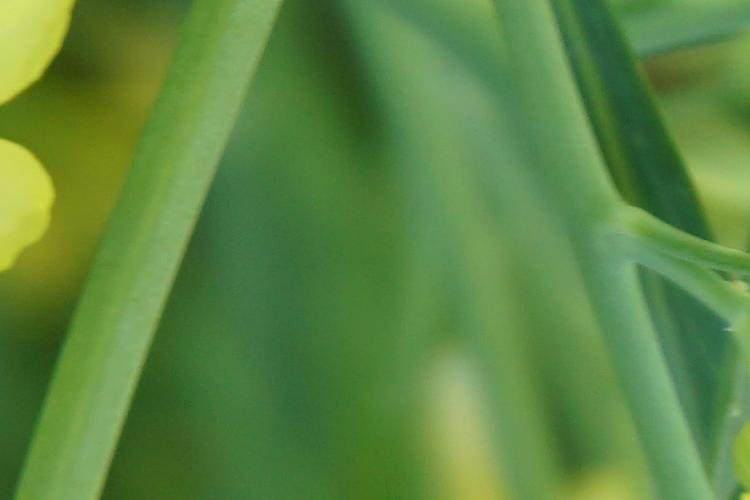yellow: (1, 1, 69, 266)
